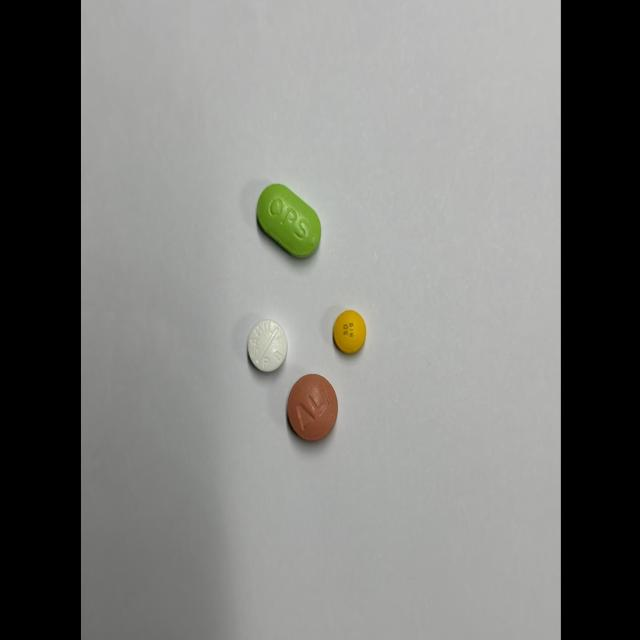Piller: (256, 183, 320, 257), (286, 373, 336, 442), (246, 320, 286, 372), (332, 310, 365, 353)
